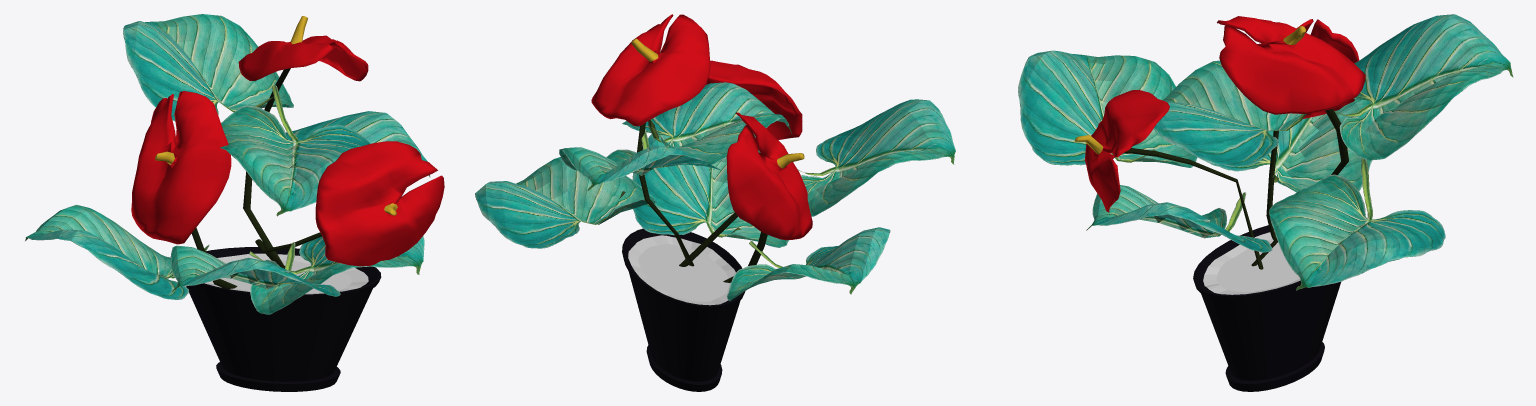
Rendered from anturio.obj.
3 renders of one model, left to right at view 1: azimuth 30°, elevation 25°; view 2: azimuth 150°, elevation 25°; view 3: azimuth 270°, elevation 25°, orthographic. The views are drawn at different scales.
Parts seen in each view (by area): view 1: Cilindro, Cilindro.003, Cilindro.001, Plano.004, Plano.007, Plano.008, Cilindro.002, Plano.006, Plano.005, Plano.002; view 2: Cilindro, Cilindro.002, Plano.002, Plano.006, Cilindro.001, Plano.005, Plano.007, Plano.008, Plano.004, Cilindro.003; view 3: Cilindro, Plano.004, Plano.002, Plano.006, Cilindro.002, Plano.007, Cilindro.003, Plano.008, Plano.005, Cilindro.001.
Part boxes in pixels (x1,y1,x2,y2): Cilindro: (186, 247, 381, 391); Cilindro.003: (255, 141, 444, 268); Cilindro.001: (131, 91, 237, 288); Plano.004: (123, 14, 293, 121); Plano.007: (220, 85, 370, 216); Plano.008: (25, 204, 209, 299); Cilindro.002: (238, 16, 368, 264); Plano.006: (170, 242, 340, 296); Plano.005: (249, 235, 424, 314); Plano.002: (286, 111, 430, 177); Cilindro: (622, 228, 745, 391); Cilindro.002: (591, 14, 710, 266); Plano.002: (475, 157, 656, 248); Plano.006: (798, 99, 955, 216); Cilindro.001: (723, 112, 812, 282); Plano.005: (632, 134, 789, 247); Plano.007: (622, 82, 792, 166); Plano.008: (727, 227, 890, 301); Plano.004: (559, 129, 720, 190); Cilindro.003: (679, 60, 802, 266); Cilindro: (1193, 225, 1340, 391); Plano.004: (1334, 14, 1513, 160); Plano.002: (1269, 158, 1445, 290); Plano.006: (1018, 50, 1197, 167); Cilindro.002: (1217, 16, 1365, 266); Plano.007: (1153, 60, 1306, 166); Cilindro.003: (1074, 90, 1263, 269); Plano.008: (1206, 99, 1371, 192); Plano.005: (1086, 185, 1272, 252); Cilindro.001: (1266, 19, 1359, 239).
Bounding box in the file's own units: 1.33 × 1.09 × 1.42.
